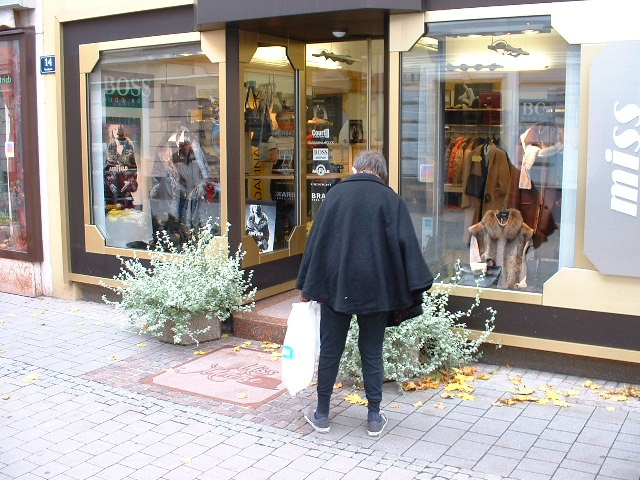person: (293, 152, 427, 438)
